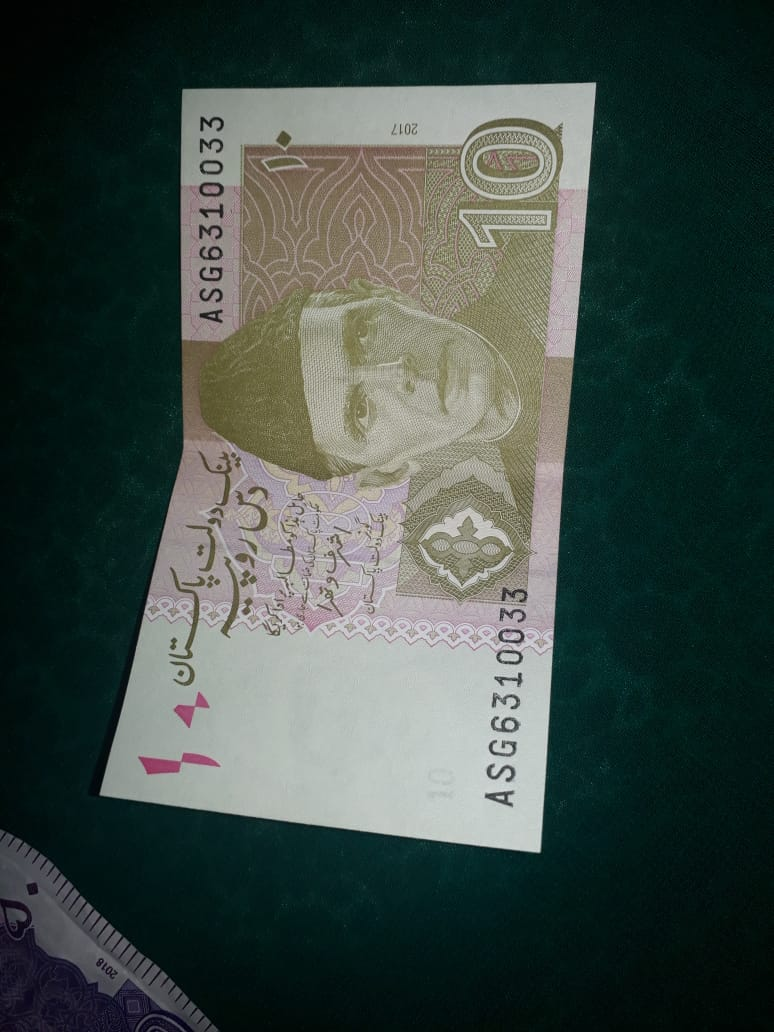10 rupee: (84, 57, 602, 859)
